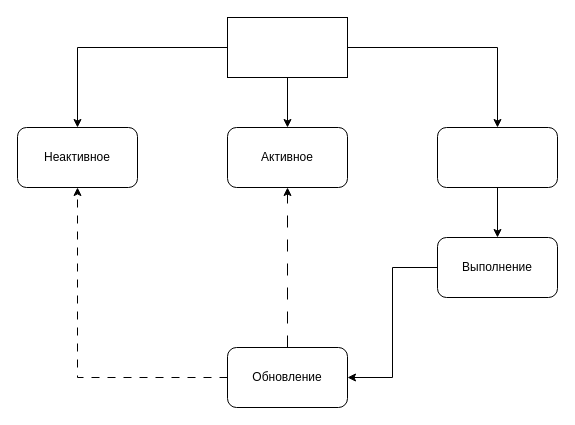
Some shapes in this 575 by 425 pixel diagram are drawn without their labels. Each missing label, with the centre of its shape:
Вызов: (497,157)
Объект: (287,47)
